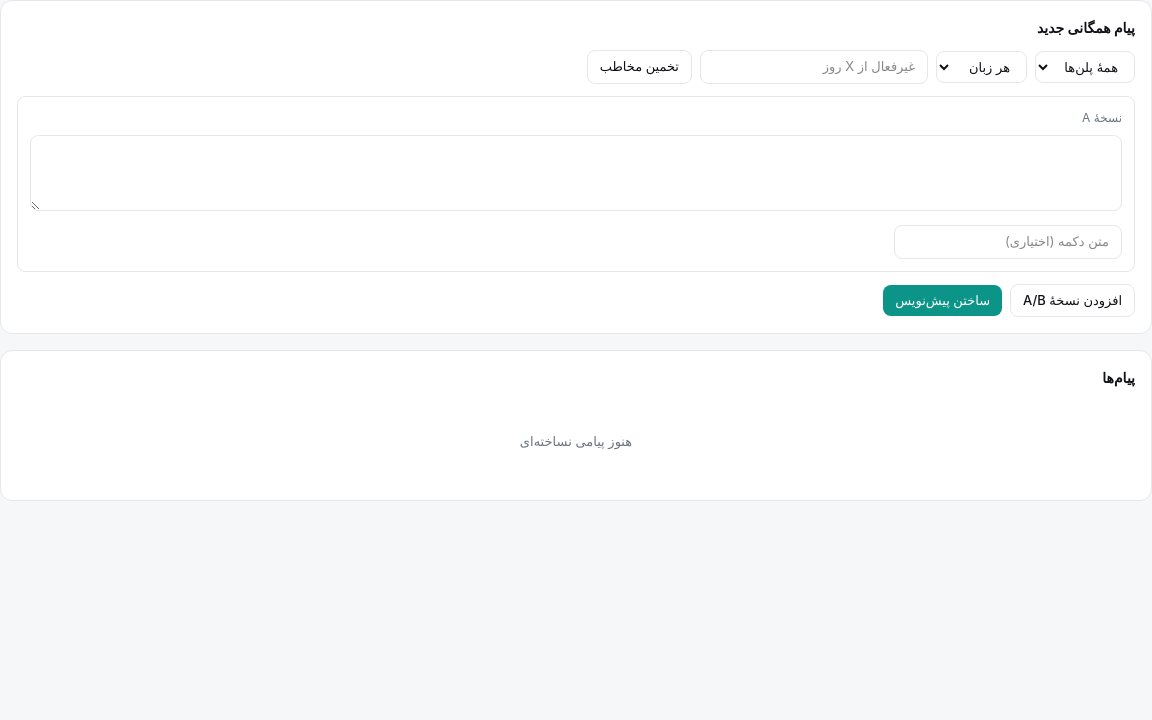
Test: broadcasts › estimates the audience before sending
The image size is (1152, 720).
Select "رایگان" in the dropdown named "plan" at coordinates (1085, 67), box [1035,51,1135,83]
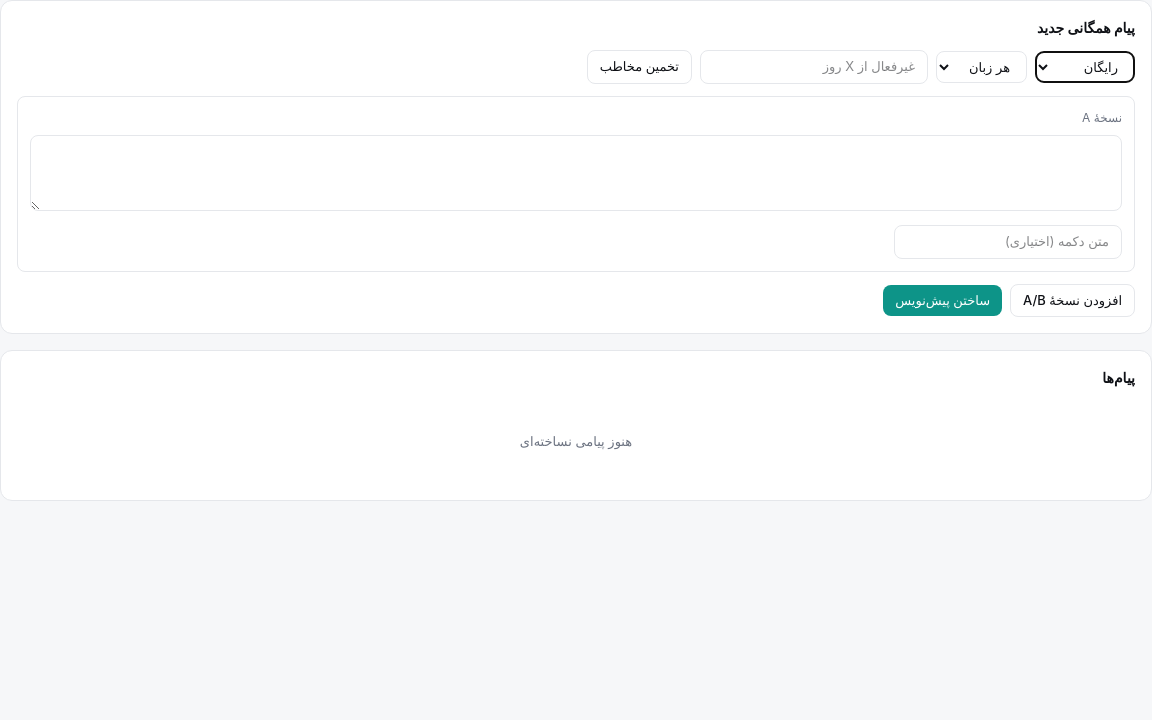
Click the button "تخمین مخاطب" at coordinates (639, 67), box [587,50,692,84]
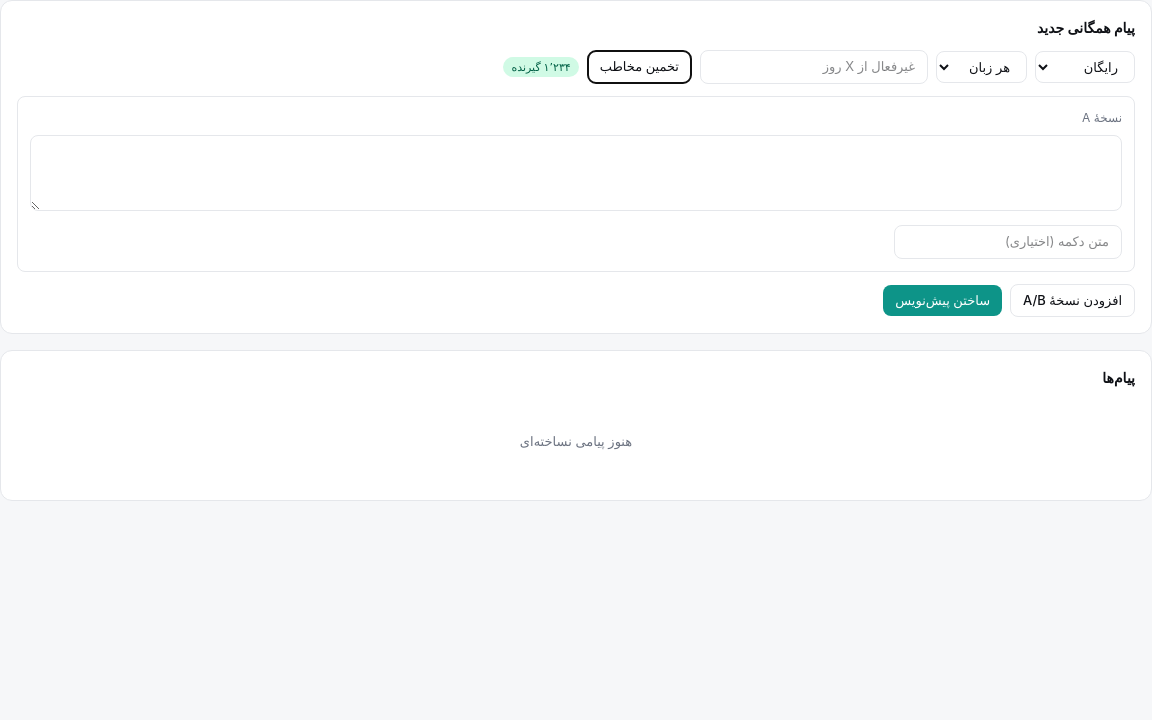
Now the text "۱٬۲۳۴ گیرنده" is shown, box [503,56,579,77]
